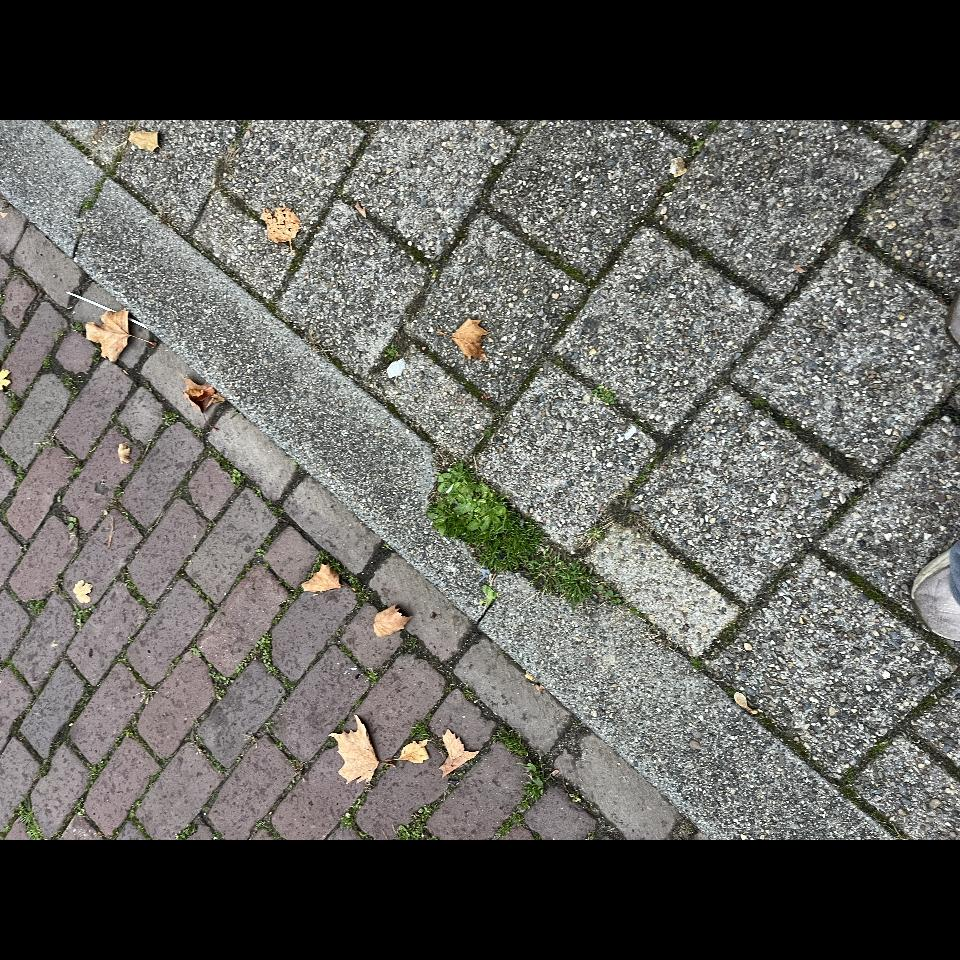weed: (234, 548, 376, 721), (0, 613, 114, 671), (0, 518, 50, 569), (165, 368, 207, 399), (0, 134, 38, 165), (476, 501, 505, 529), (226, 147, 241, 166), (183, 310, 193, 322), (163, 335, 166, 343)
